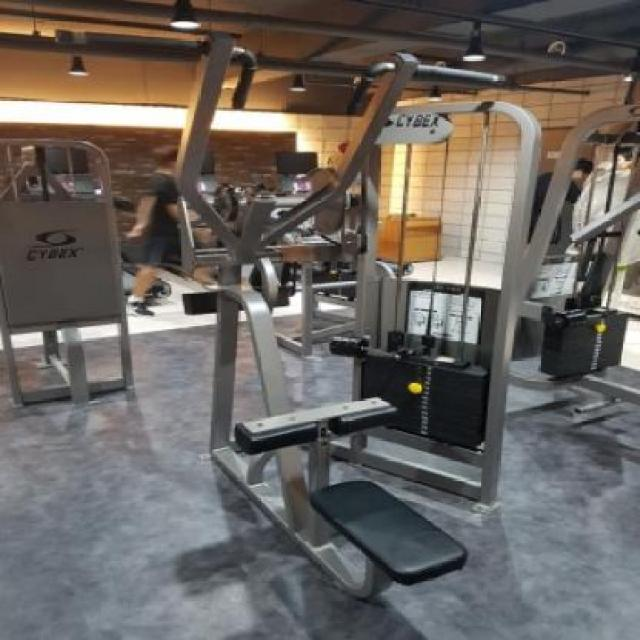Lat Pull Down: (92, 15, 577, 636)
